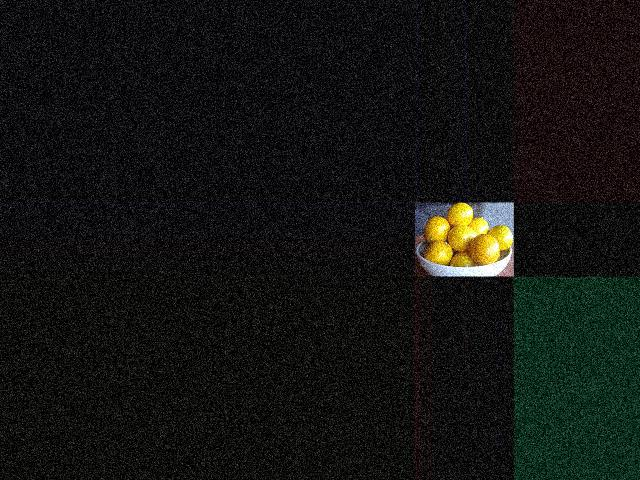lemon: (452, 252, 471, 272)
